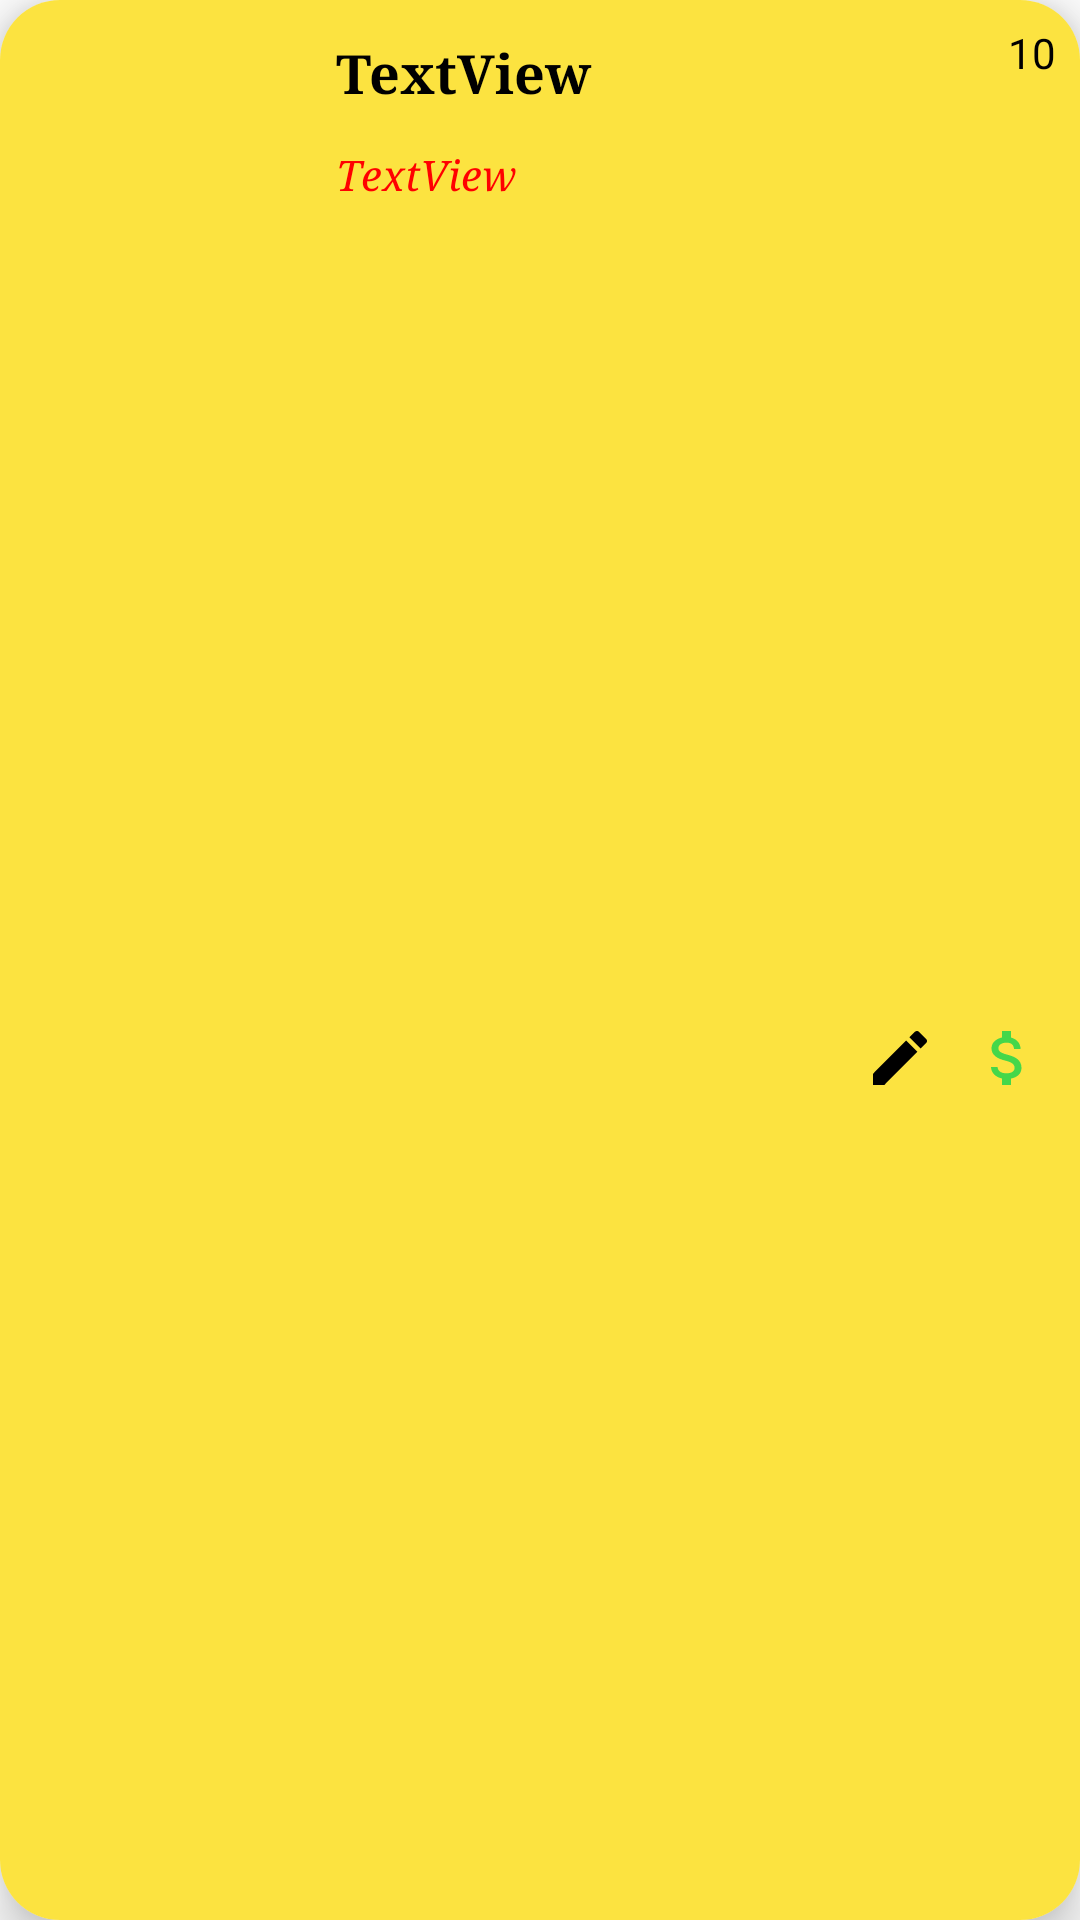

Icon bounding boxes for this 1080w x 1920h phone screenshot, format bbox(x1, y1, x2, y2):
attach money: bbox(991, 1031, 1022, 1085)
edit: bbox(873, 1031, 927, 1085)
